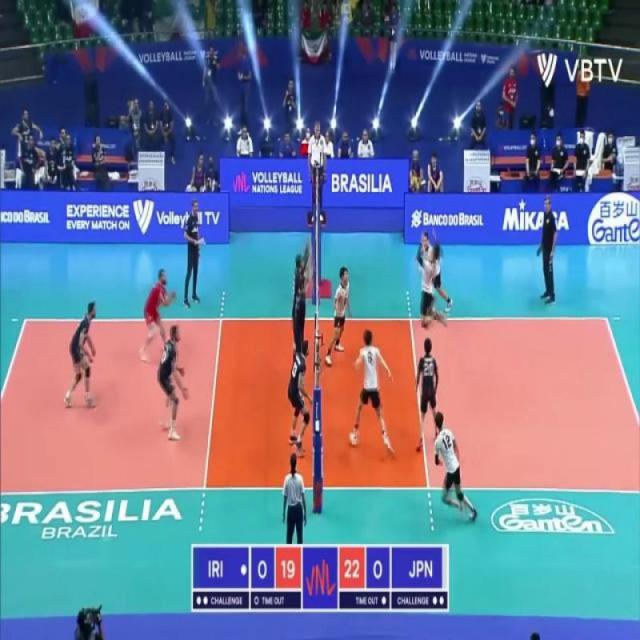volleyball: (411, 176, 419, 193)
